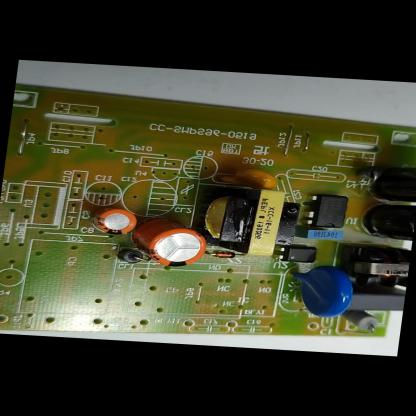Cap1: (127, 217, 210, 268)
Cap2: (95, 207, 139, 237)
Cap3: (356, 202, 416, 243)
Cap4: (367, 163, 416, 203)
MOSFET: (307, 194, 352, 230)
Mov: (288, 262, 356, 318)
Resistor: (340, 309, 384, 331)
Transformer: (189, 184, 305, 260), (341, 245, 411, 289)
